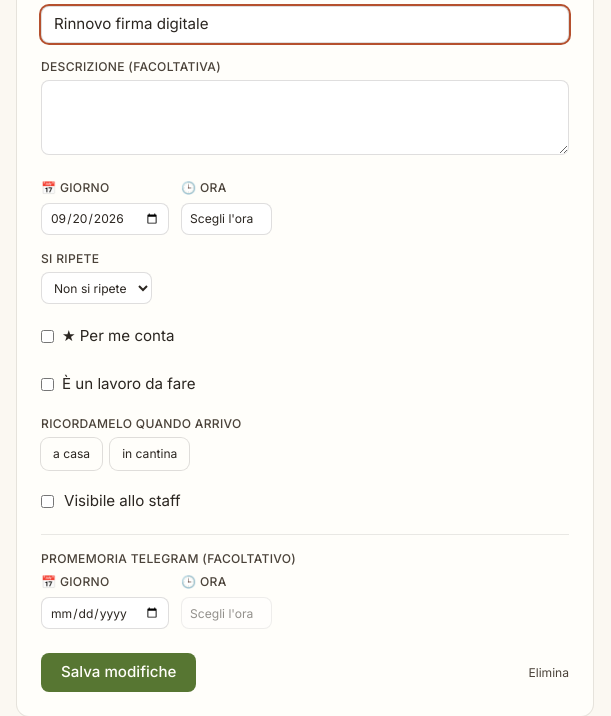
Test: 🔴 in Agenda «Elimina» chiede conferma › il primo tocco non cancella, e la conferma nomina l'impegno
(page scrolled)
Click the button "Elimina".
click(549, 673)  # box [528, 657, 569, 689]
(page scrolled)
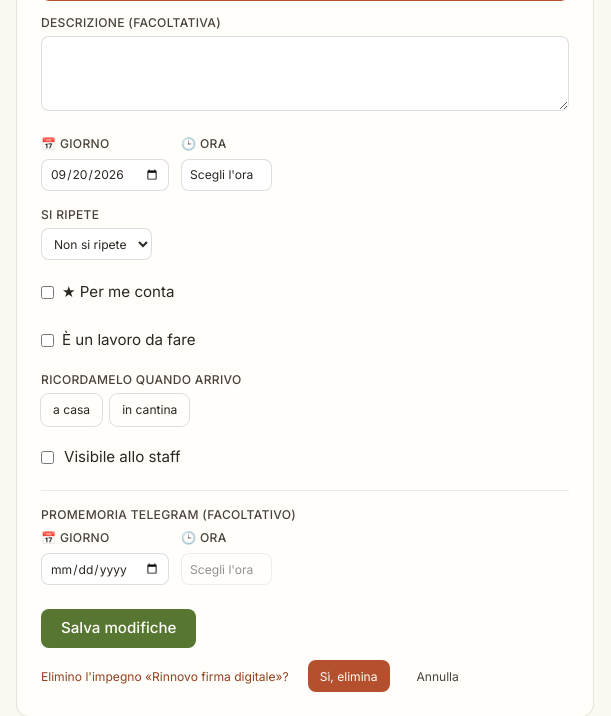
Expected: the button "Sì, elimina" is shown, [308, 660, 390, 692]
